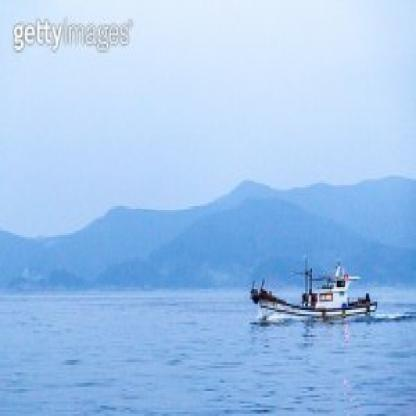fish-b: (254, 246, 382, 324)
